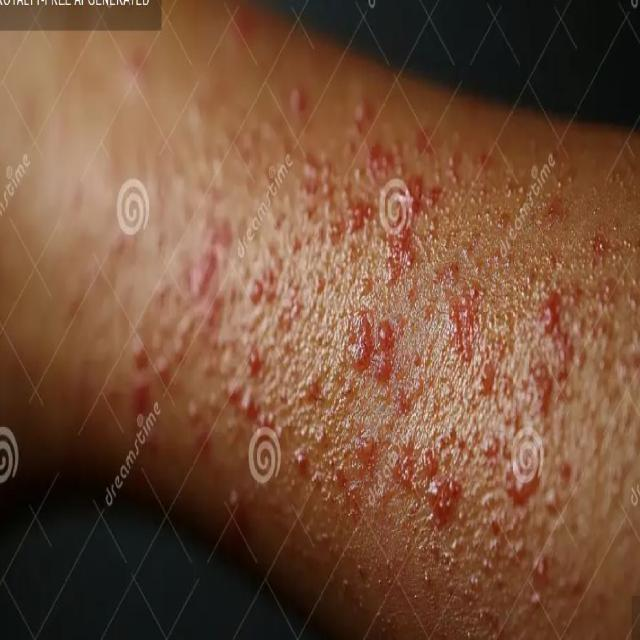Eczema: (117, 52, 606, 626)
